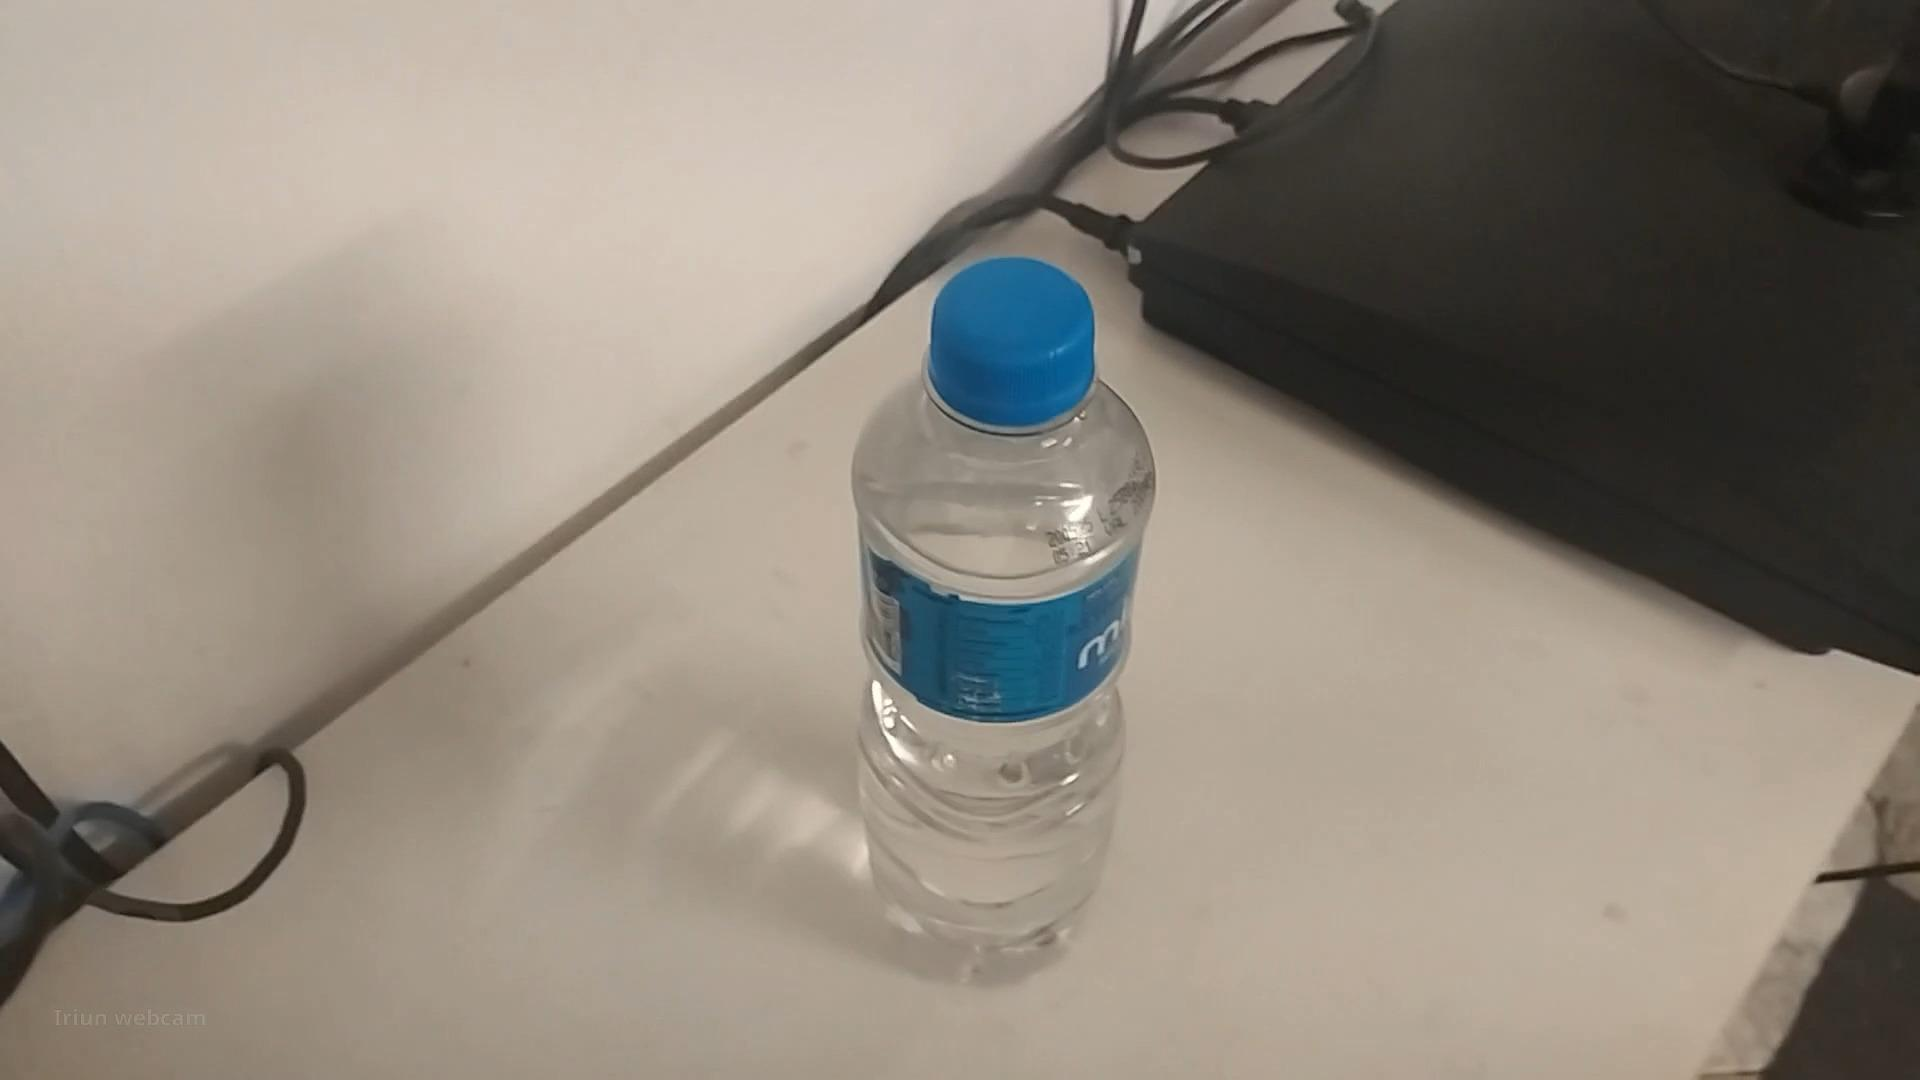agua: (850, 252, 1147, 953)
